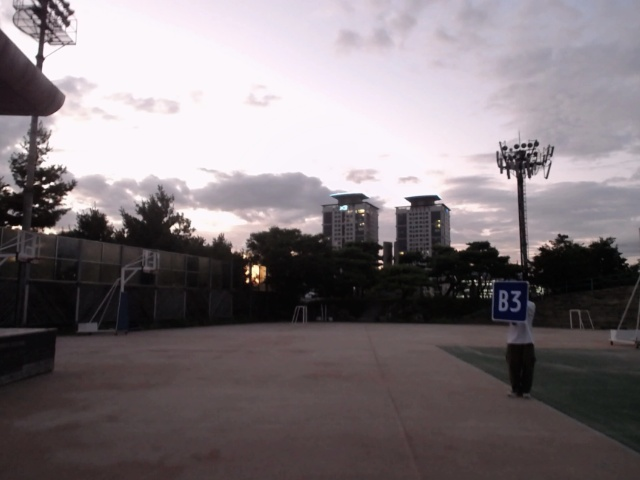delivery_b3: (492, 281, 528, 323)
